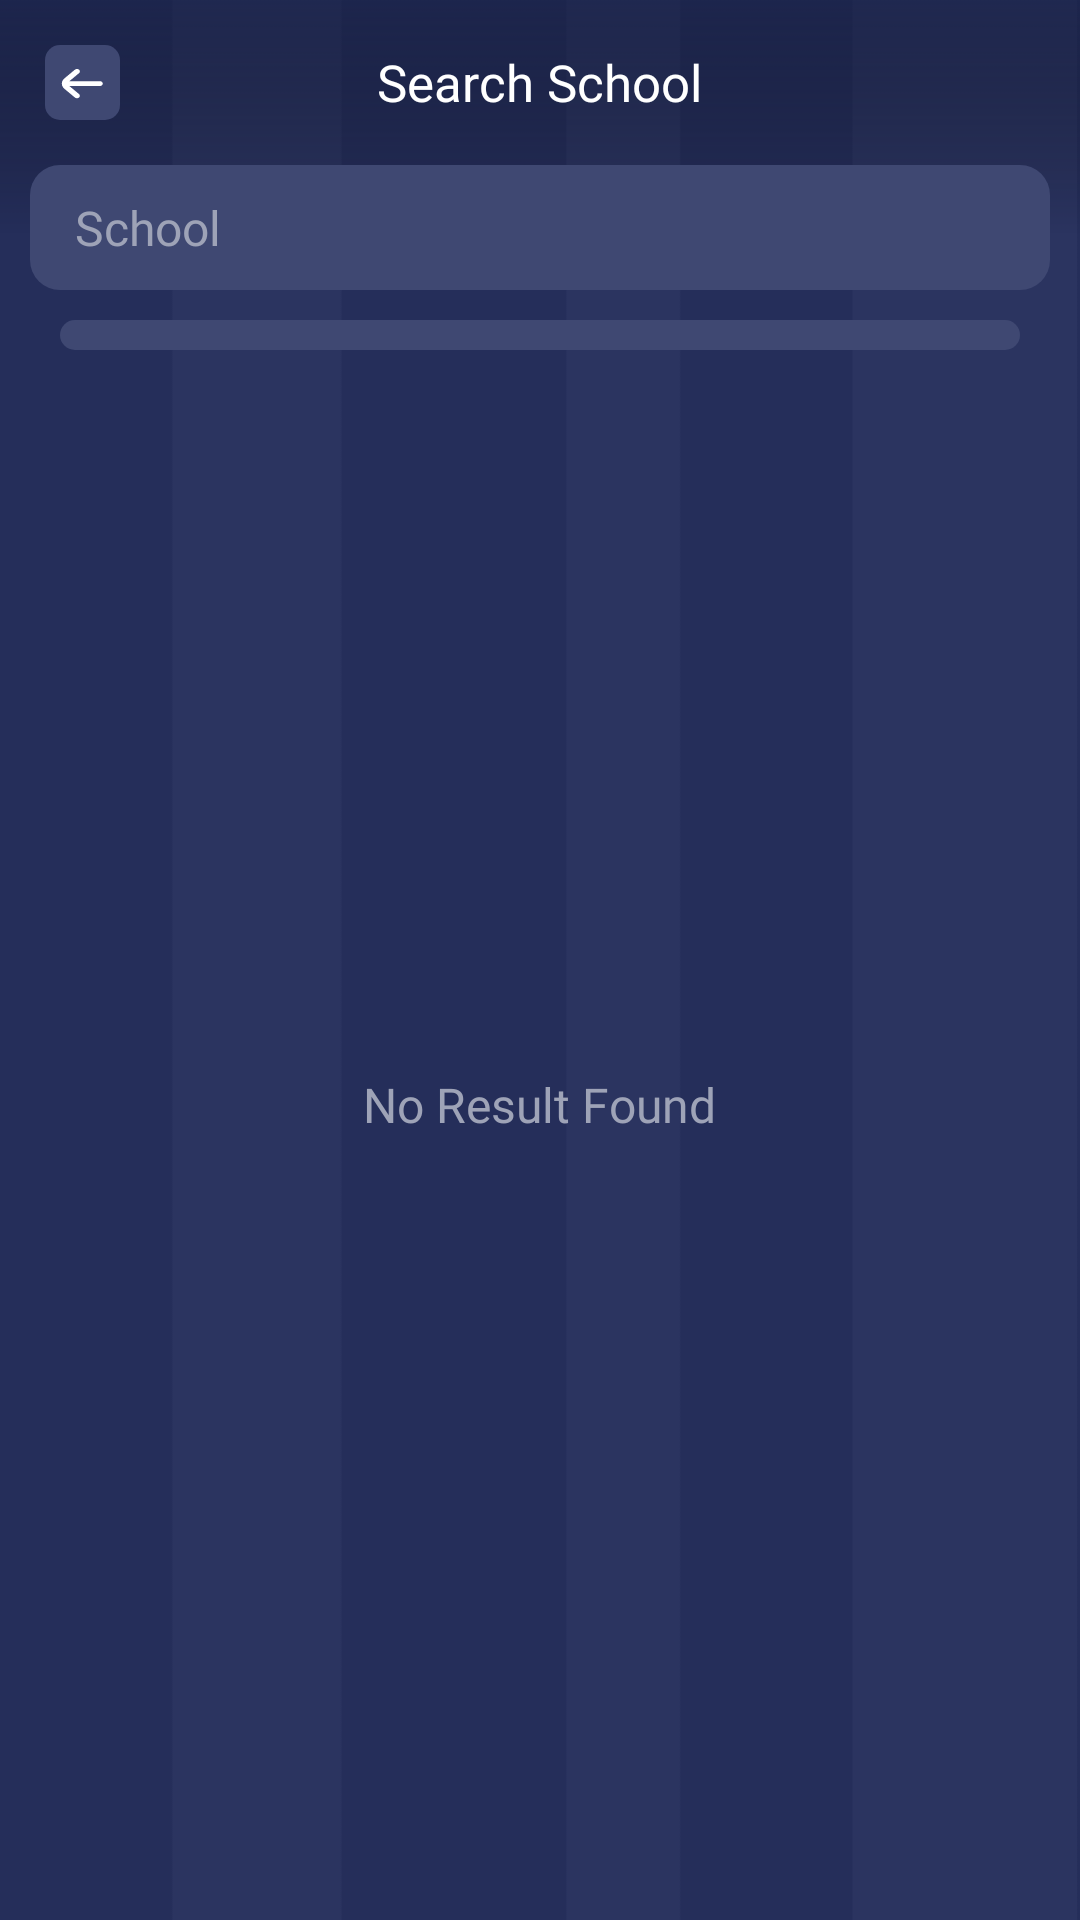

Icon click points for this 1080w x 1920h phone screenshot, format [x,y]:
back arrow: [82,82]
